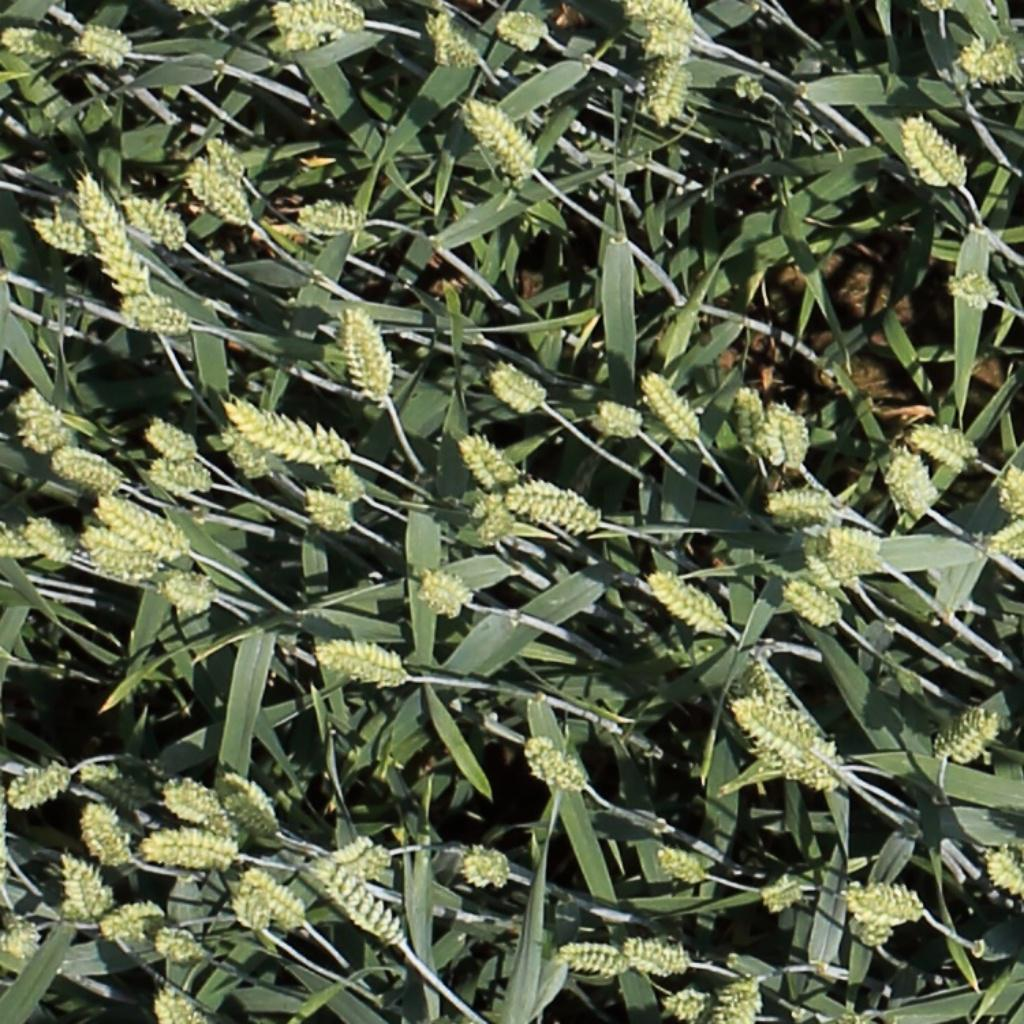0-0: (726, 688, 844, 783), (73, 165, 151, 296), (226, 394, 351, 462), (312, 842, 406, 929), (738, 663, 811, 761), (464, 94, 537, 180), (517, 476, 623, 529), (640, 360, 705, 438), (319, 638, 412, 691), (905, 110, 969, 187), (847, 877, 939, 930), (142, 820, 244, 866), (651, 562, 727, 622), (187, 152, 252, 222), (101, 489, 189, 540), (346, 296, 390, 397), (118, 290, 198, 342), (218, 759, 283, 821), (244, 853, 309, 914), (830, 514, 892, 577), (81, 787, 133, 860), (121, 187, 187, 244), (890, 434, 939, 510), (711, 958, 767, 1024), (526, 742, 588, 801), (152, 969, 216, 1024), (460, 424, 518, 484), (16, 383, 70, 447), (58, 850, 104, 925), (622, 927, 692, 976), (106, 519, 190, 559), (937, 699, 998, 753), (31, 211, 102, 257), (84, 533, 155, 579), (103, 897, 172, 944), (275, 0, 366, 35), (161, 774, 233, 817), (223, 412, 271, 475), (771, 393, 809, 472), (754, 869, 811, 921), (430, 10, 479, 69), (639, 42, 678, 116), (801, 539, 861, 586), (491, 360, 547, 409), (50, 445, 122, 483), (958, 43, 1017, 89), (558, 935, 629, 973), (202, 126, 251, 181), (6, 756, 70, 797), (596, 395, 651, 442), (154, 917, 214, 960), (148, 454, 214, 493), (233, 853, 270, 922), (633, 0, 698, 39), (303, 499, 363, 541), (472, 484, 517, 539), (771, 487, 836, 525), (219, 780, 275, 824), (77, 19, 134, 62), (737, 372, 768, 451), (23, 513, 68, 564), (664, 977, 715, 1022), (298, 203, 368, 235), (914, 421, 976, 457), (0, 906, 44, 956), (427, 8, 461, 72), (947, 274, 1000, 314), (144, 415, 199, 453), (327, 447, 367, 498), (655, 842, 707, 880), (984, 835, 1022, 887), (420, 567, 466, 607), (0, 28, 62, 55), (986, 517, 1024, 558), (161, 572, 217, 599), (998, 454, 1024, 512), (496, 17, 548, 45), (304, 483, 354, 512), (462, 842, 510, 872), (0, 525, 40, 559), (330, 824, 376, 851), (285, 22, 327, 51), (172, 0, 232, 15)
